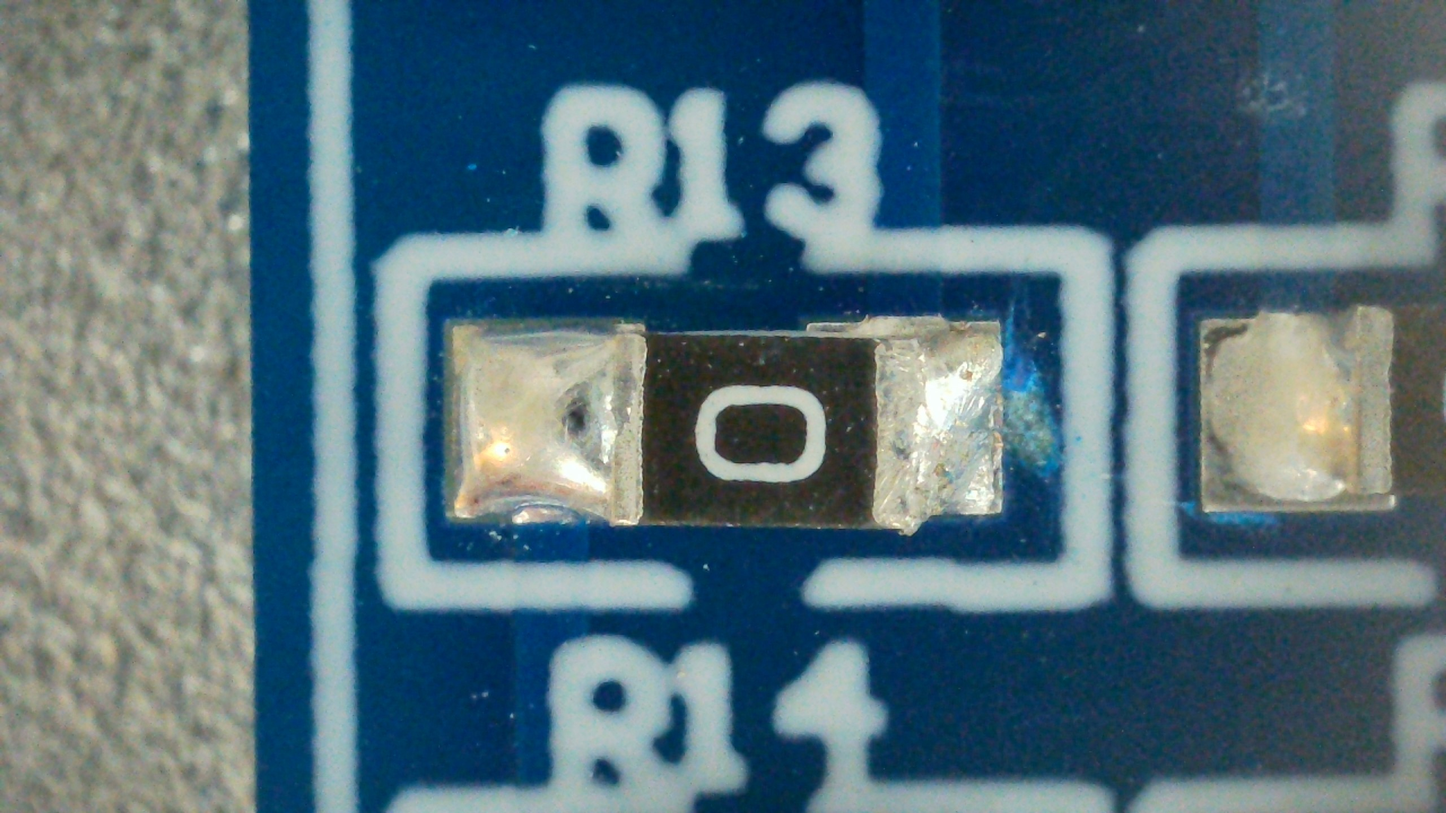OK: (449, 315, 1001, 538)
